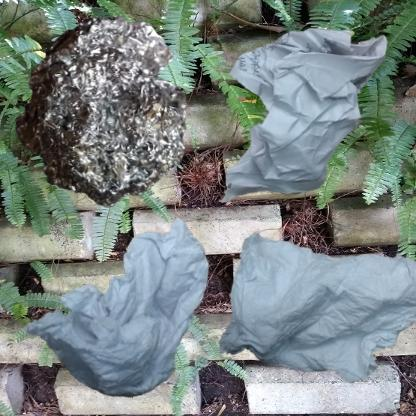aluminio: (10, 10, 193, 213)
papel: (10, 213, 236, 416), (213, 213, 416, 416), (213, 10, 394, 226)
